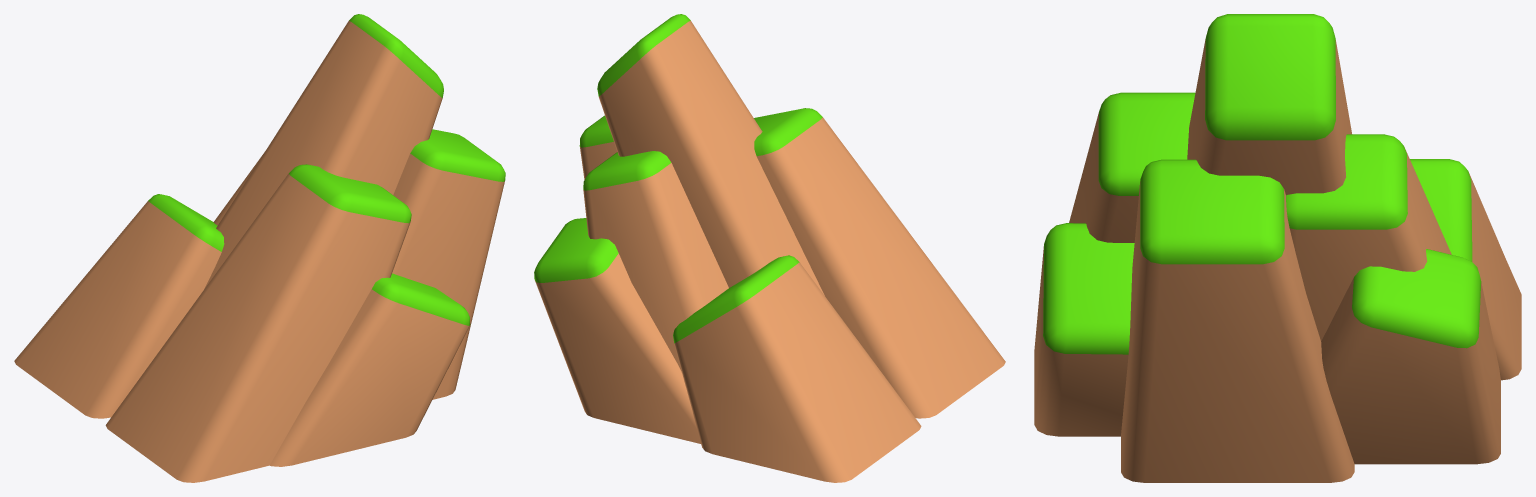
Rendered from Rocks_3.fbx.
3 views of the same model, side by side, from view 1: azimuth 30°, elevation 25°; view 2: azimuth 150°, elevation 25°; view 3: azimuth 270°, elevation 25° (orthographic). The views are drawn at different scales.
Visible parts, largest first — view 1: Rocks_3; view 2: Rocks_3; view 3: Rocks_3.
Part boxes in pixels (box(x1,y1,x2,y2)): Rocks_3: box(14, 14, 505, 482); Rocks_3: box(534, 14, 1005, 482); Rocks_3: box(1034, 14, 1521, 482).
Size of the model in its own units: 5.41 by 4.74 by 4.67.
